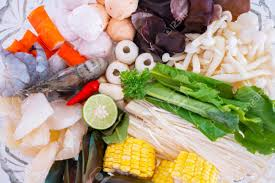Lettuce: (141, 65, 272, 134)
